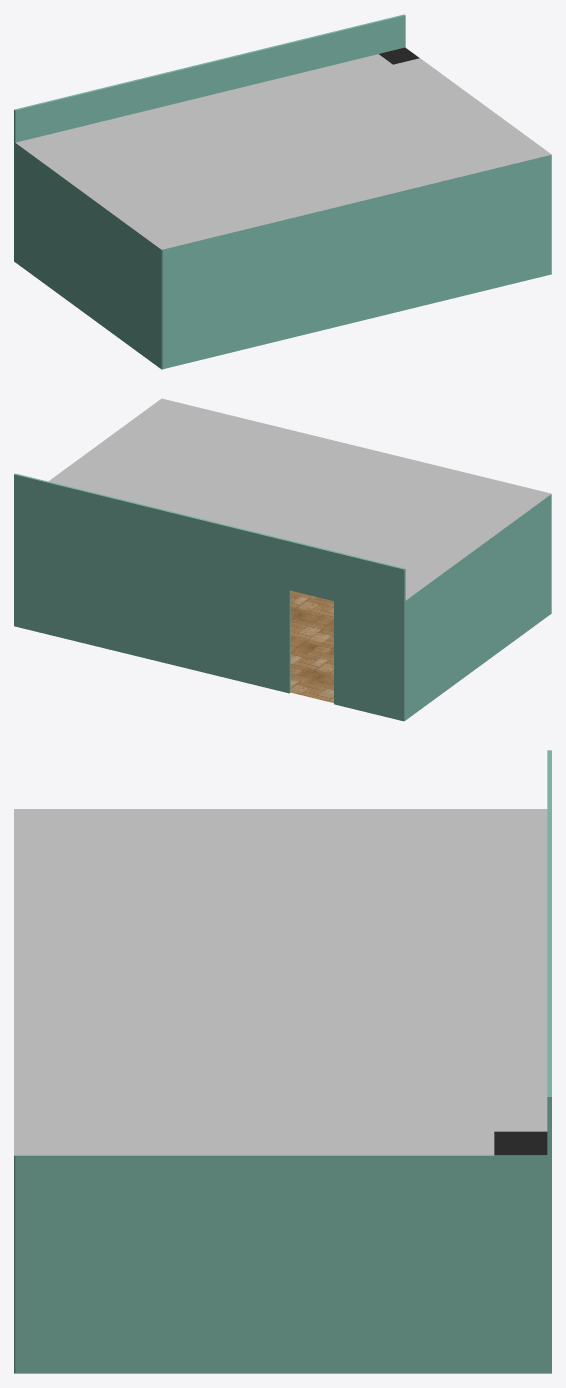
Rendered from Office2.FBX.
3 renders of one model, top to bottom at view 1: azimuth 30°, elevation 25°; view 2: azimuth 150°, elevation 25°; view 3: azimuth 270°, elevation 25°, orthographic. The views are drawn at different scales.
Parts seen in each view (by area): view 1: 2, Object003, Object001; view 2: Object001, Object003, 2, Object002; view 3: Object003, 2, Object001, Box058.
Part boxes in pixels (left/top/right/bottom): 2: left=15, top=143, right=551, bottom=369; Object003: left=15, top=48, right=551, bottom=249; Object001: left=14, top=14, right=405, bottom=261; Object001: left=14, top=473, right=405, bottom=721; Object003: left=48, top=398, right=551, bottom=600; 2: left=405, top=494, right=551, bottom=719; Object002: left=290, top=590, right=333, bottom=702; Object003: left=14, top=809, right=547, bottom=1155; 2: left=14, top=1155, right=547, bottom=1373; Object001: left=547, top=750, right=551, bottom=1373; Box058: left=494, top=1131, right=547, bottom=1155.
Size of the model in its own units: 13051 by 4853 by 8554.
